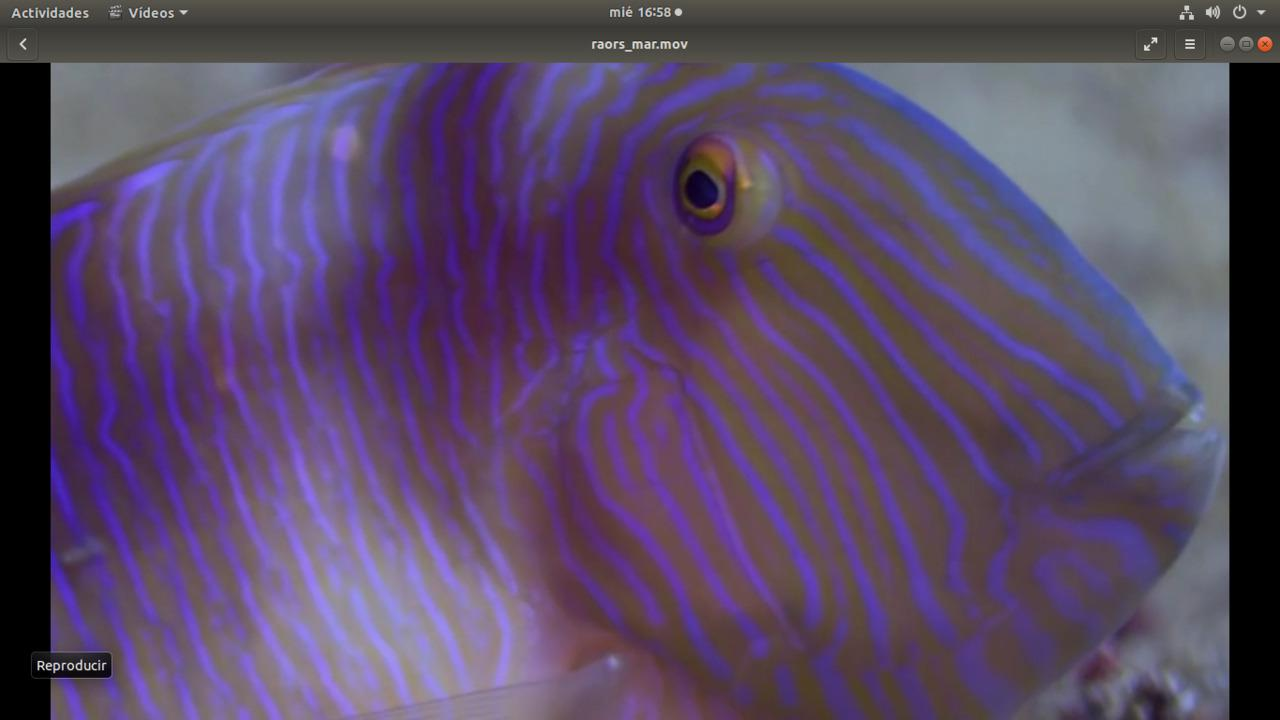raor: (110, 65, 1220, 706)
